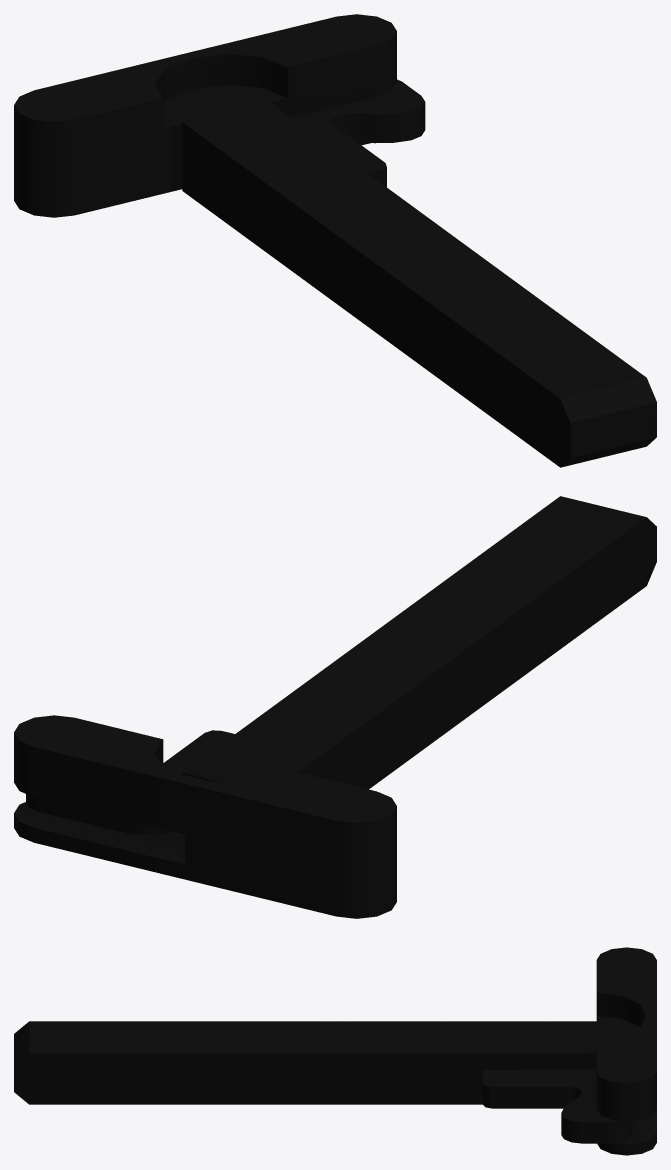
Rendered from M4_ChargingHandle.fbx.
The picture shows the model from 3 angles, top to bottom: view 1: azimuth 30°, elevation 25°; view 2: azimuth 150°, elevation 25°; view 3: azimuth 270°, elevation 25°; orthographic projection. The views are drawn at different scales.
Parts seen in each view (by area): view 1: BaseChargingHandle; view 2: BaseChargingHandle; view 3: BaseChargingHandle.
Part boxes in pixels (x1,y1,x2,y2): BaseChargingHandle: (14, 14, 656, 467); BaseChargingHandle: (14, 496, 656, 918); BaseChargingHandle: (14, 947, 656, 1155).
Bounding box in the file's own units: 4.47 × 1.12 × 8.9.
1 material, 1 textured.
